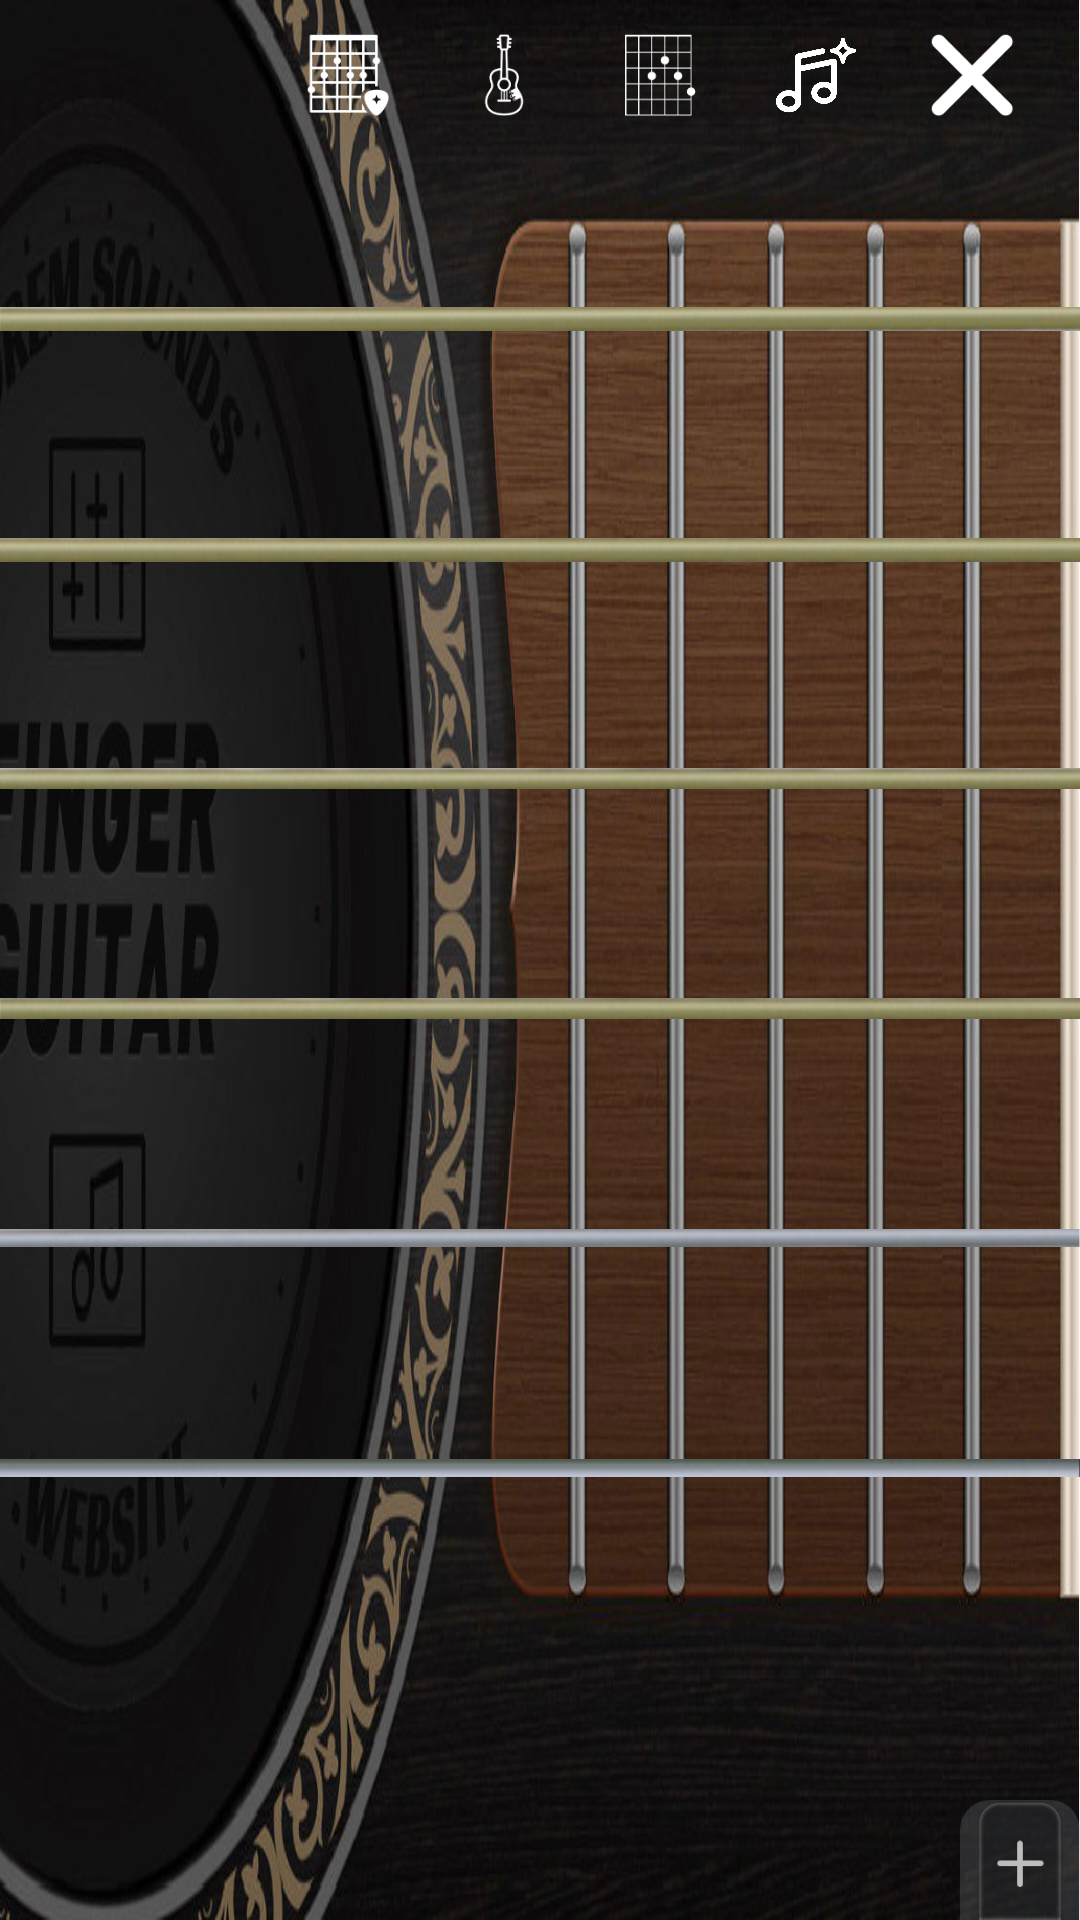

Where icons sit on this 1080px x 1920px app screen, as Rect(x1, y1, x2, y2):
add chord: Rect(960, 1800, 1080, 1920)
close: Rect(931, 34, 1013, 116)
fingerstyle: Rect(484, 34, 524, 116)
